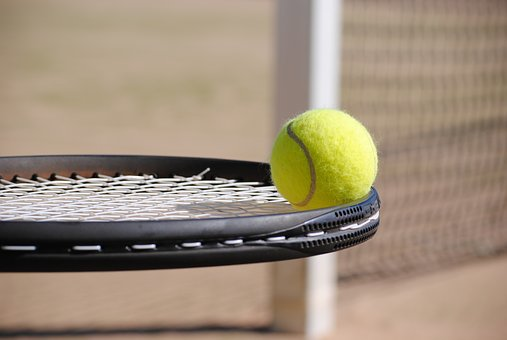aim: (269, 109, 377, 212)
